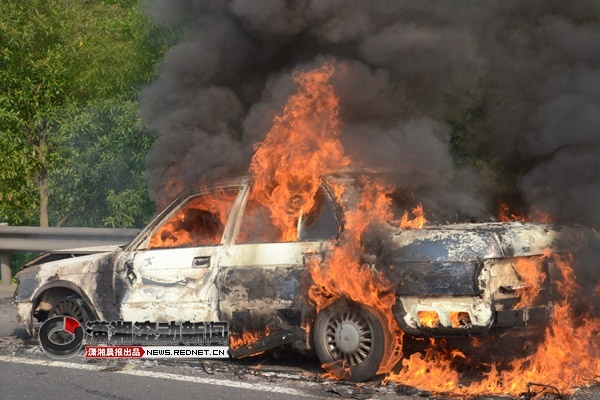fire: (147, 60, 428, 248), (227, 322, 270, 359)
